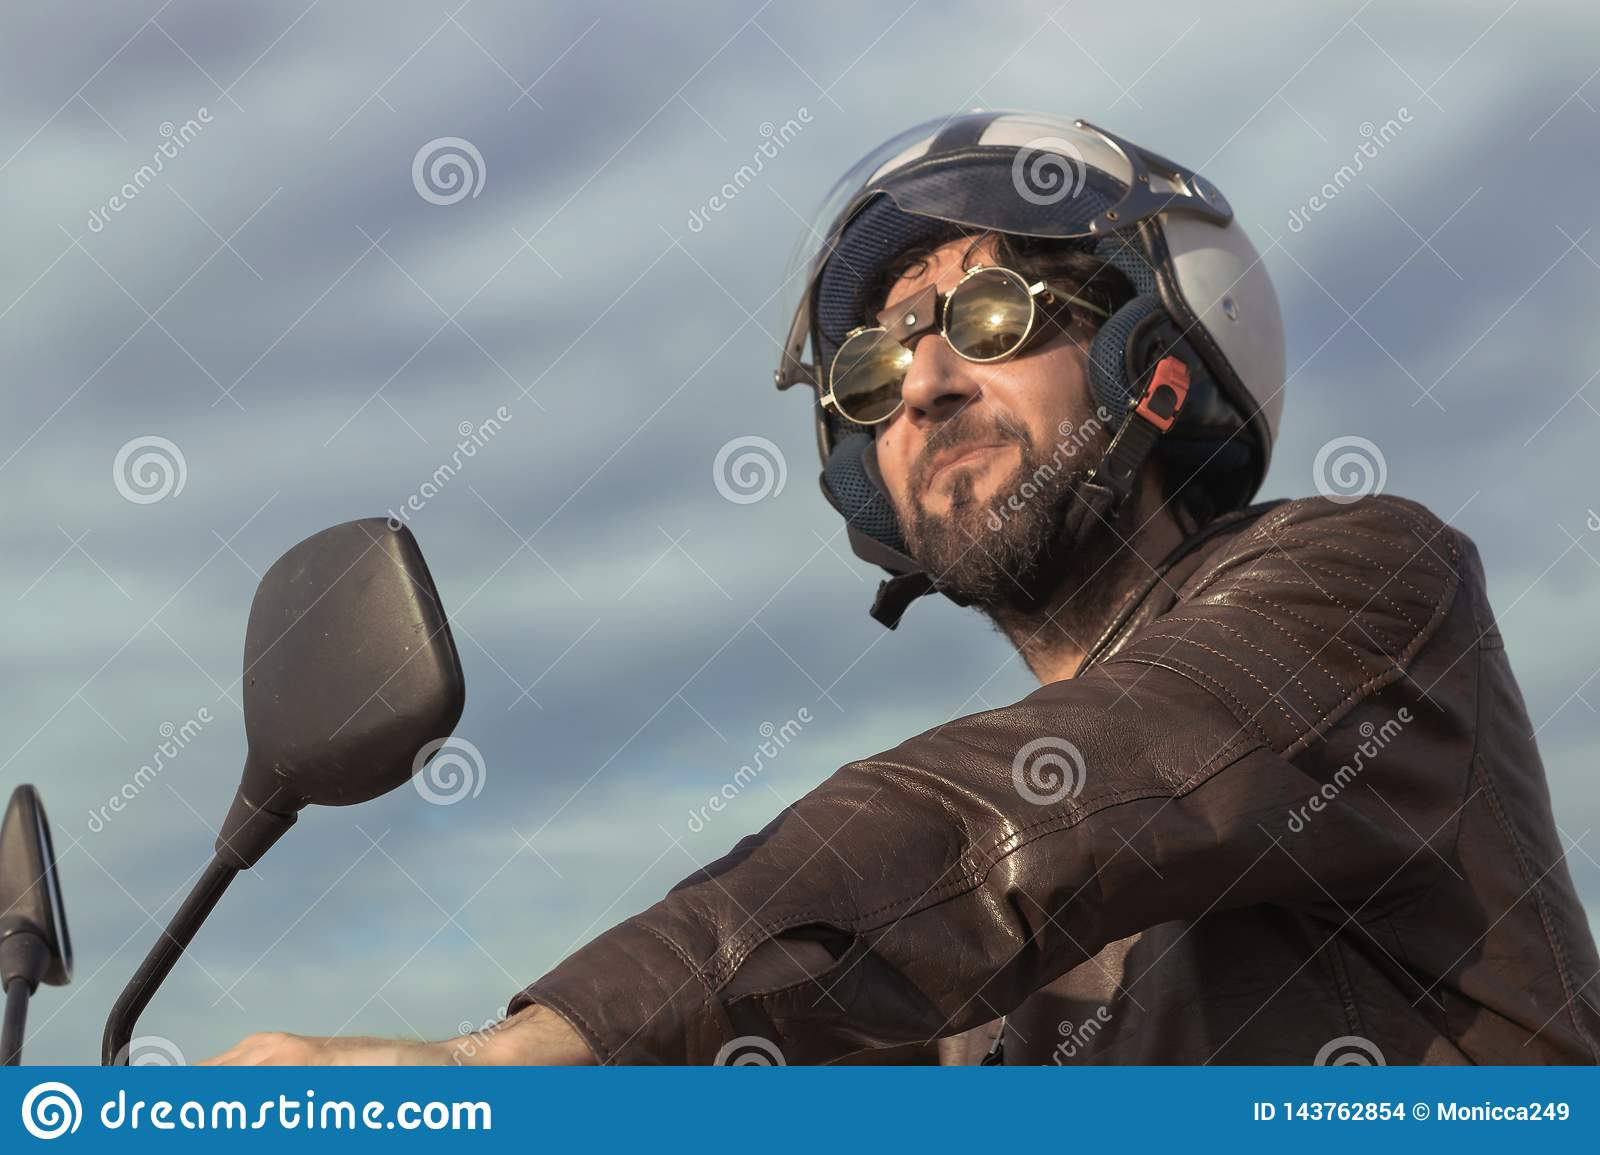helmet: (753, 88, 1303, 496)
